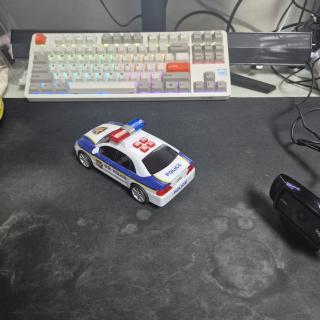Police_car: (74, 118, 195, 207)
